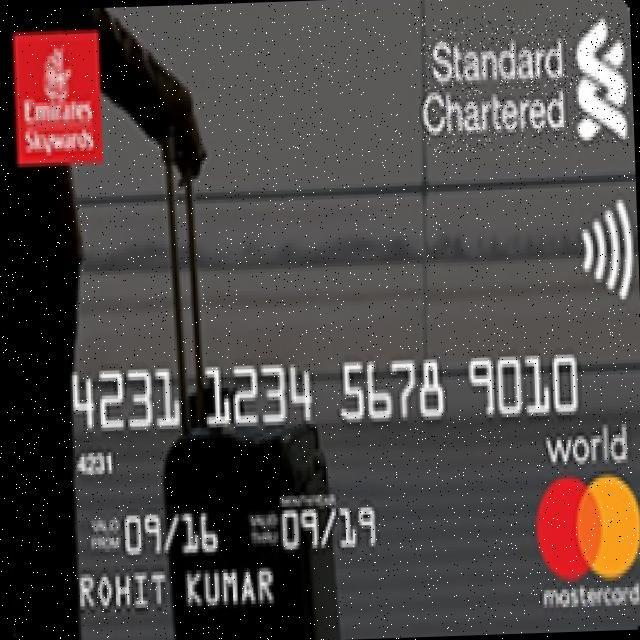Standard Chartered: (420, 11, 630, 152)
